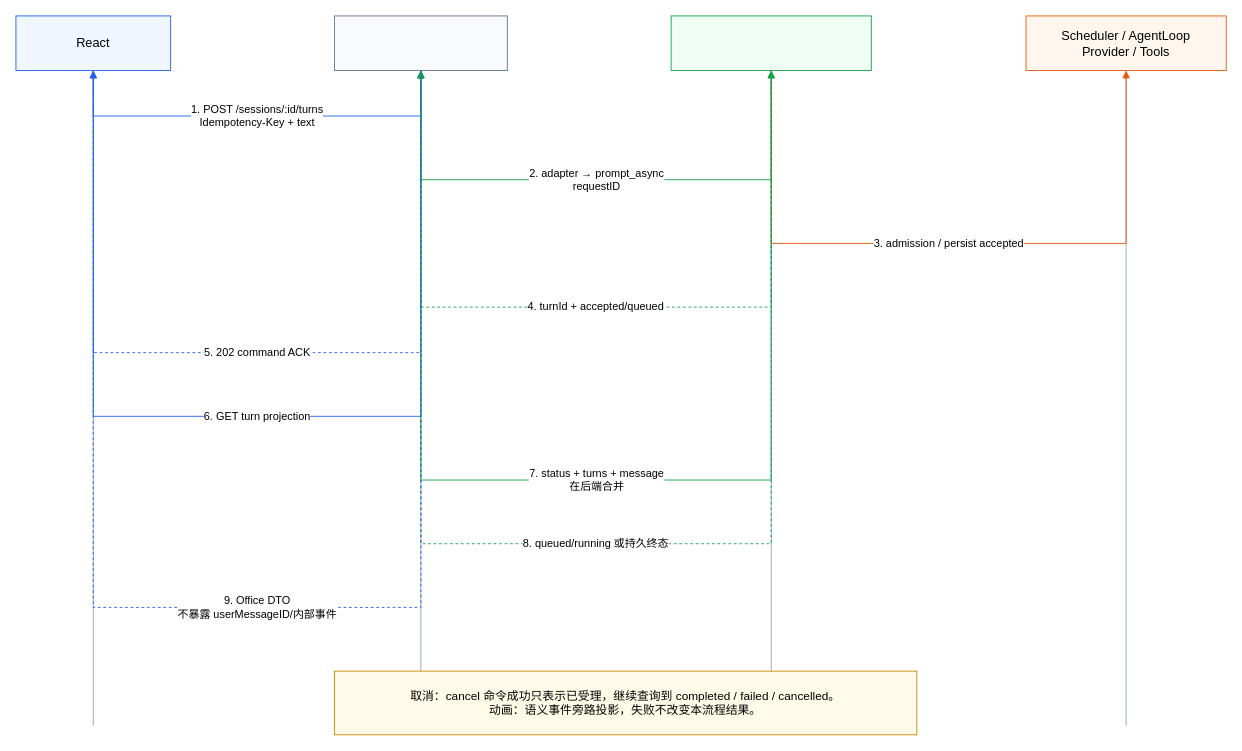
Image size: 1242x751. Some labels were removed from this diagram. Here are the shapes that lost their labels. From the top down, the centre of each, then its label:
At point (420, 43): "Gateway Office API v1".
At point (770, 43): "Rust Host Office Engine Adapter".
